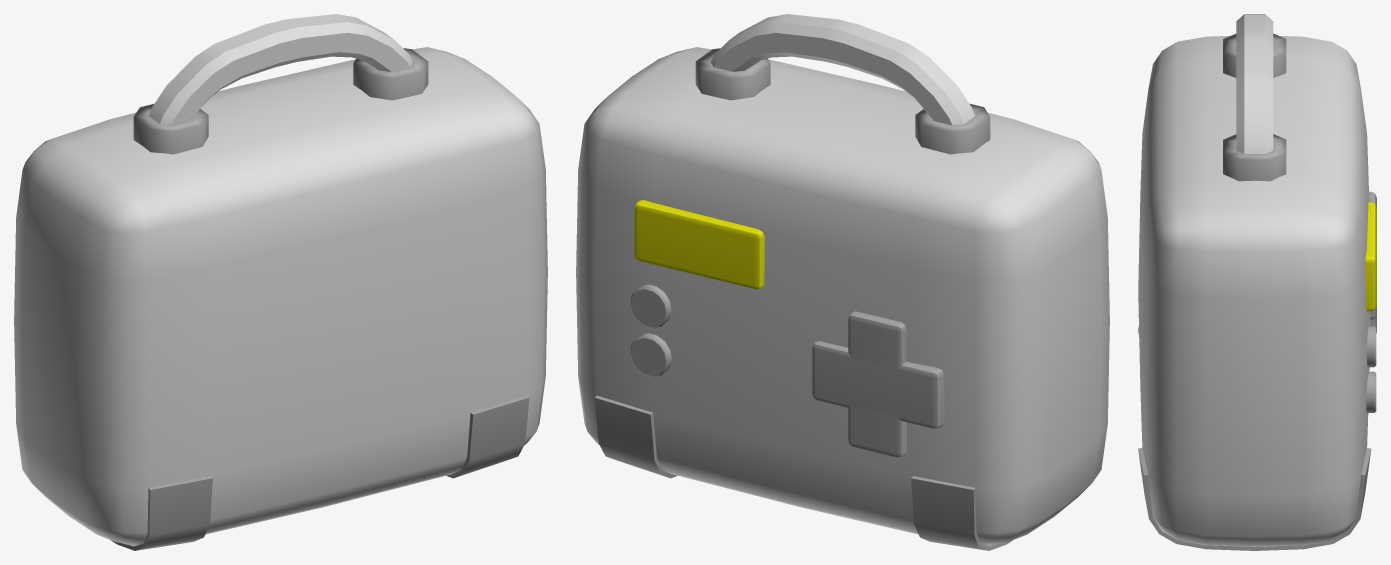
The model's file is Maleta.fbx.
3 renders of one model, left to right at view 1: azimuth 30°, elevation 25°; view 2: azimuth 150°, elevation 25°; view 3: azimuth 270°, elevation 25°, orthographic. The views are drawn at different scales.
Parts seen in each view (by area): view 1: Maleta; view 2: Maleta; view 3: Maleta.
Part boxes in pixels (x1,y1,x2,y2): Maleta: (14,14,547,550); Maleta: (576,14,1109,550); Maleta: (1138,14,1376,550).
Bounding box in the file's own units: 28.7 × 26.87 × 13.44.
